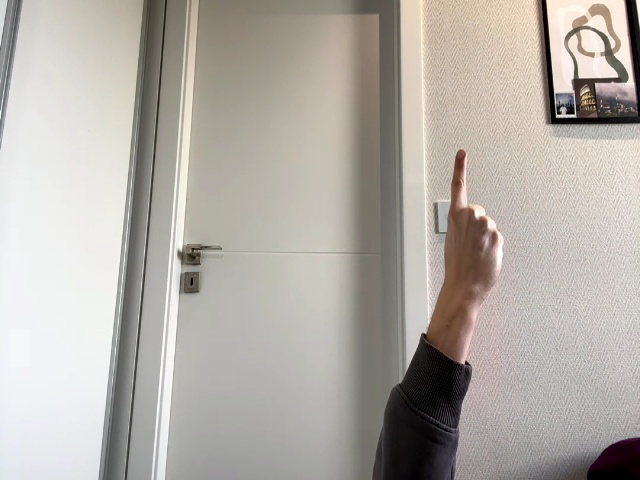D: (444, 150, 504, 302)
